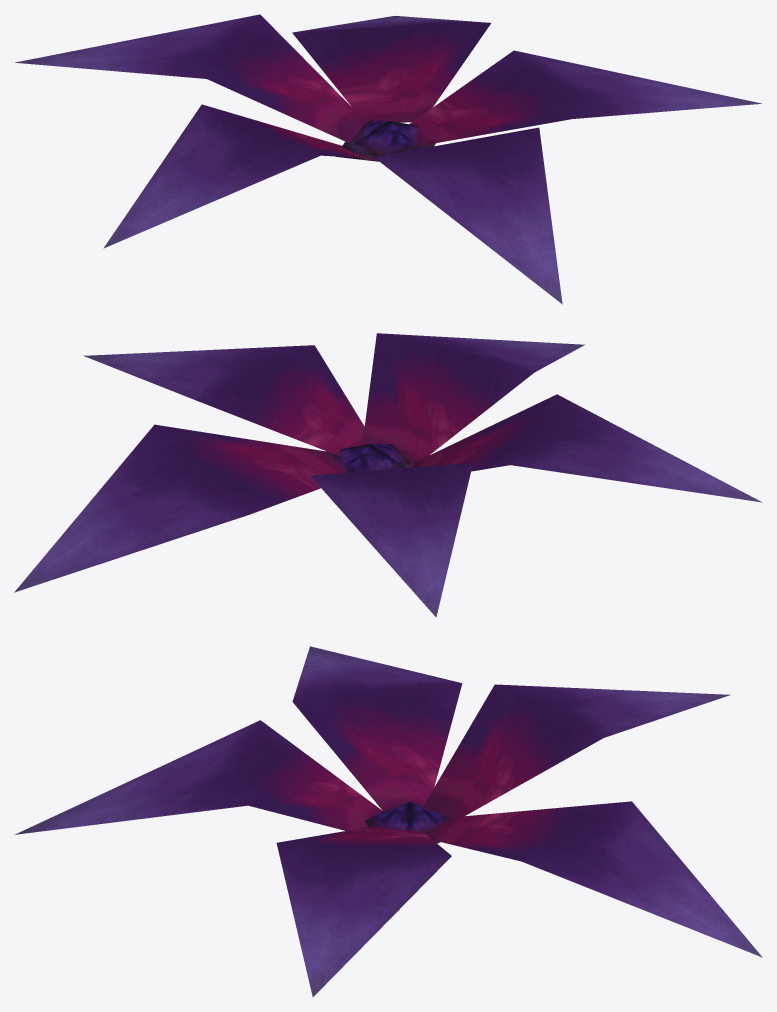
The model's file is hua04.FBX.
3 renders of one model, top to bottom at view 1: azimuth 30°, elevation 25°; view 2: azimuth 150°, elevation 25°; view 3: azimuth 270°, elevation 25°, orthographic. The views are drawn at different scales.
Visible parts, largest first — view 1: hua06; view 2: hua06; view 3: hua06.
Boxes of the visible parts, bbox=[...] form: hua06: bbox=[15, 14, 761, 304]; hua06: bbox=[14, 333, 762, 617]; hua06: bbox=[14, 646, 762, 997].
Size of the model in its own units: 17.71 by 16.81 by 2.8.
